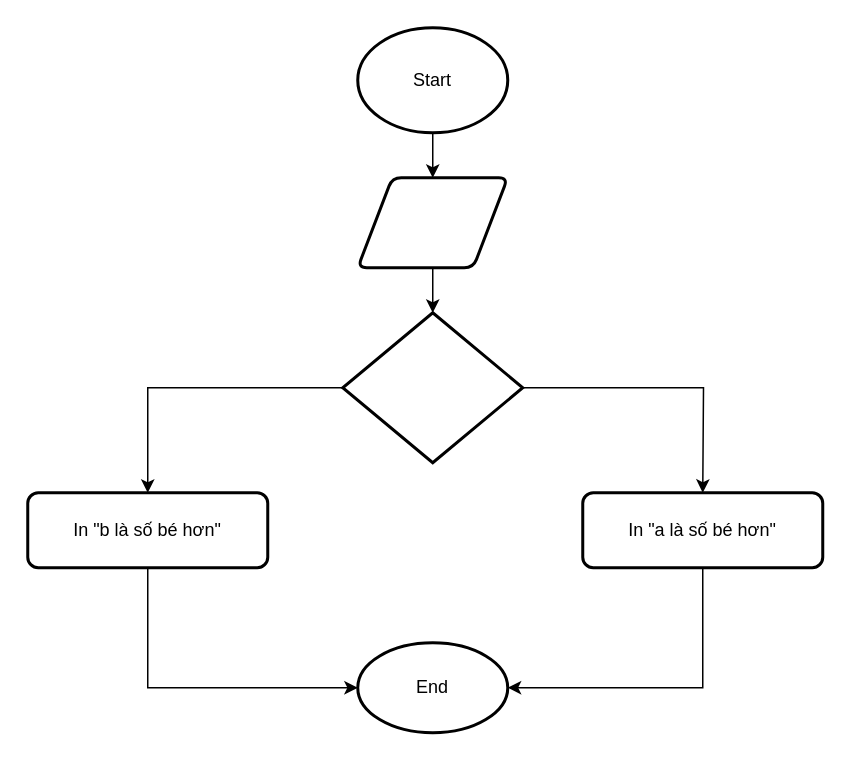
The diagram is 849 pixels wide and 759 high, and some of its shapes have lost their labels. The shapes that lost their labels are listed below. From the top down, each one's box as (x1, y1, x2, y2) in pixels, then its label:
(356, 176, 508, 268): Nhập a,b
(340, 310, 524, 464): a>b
